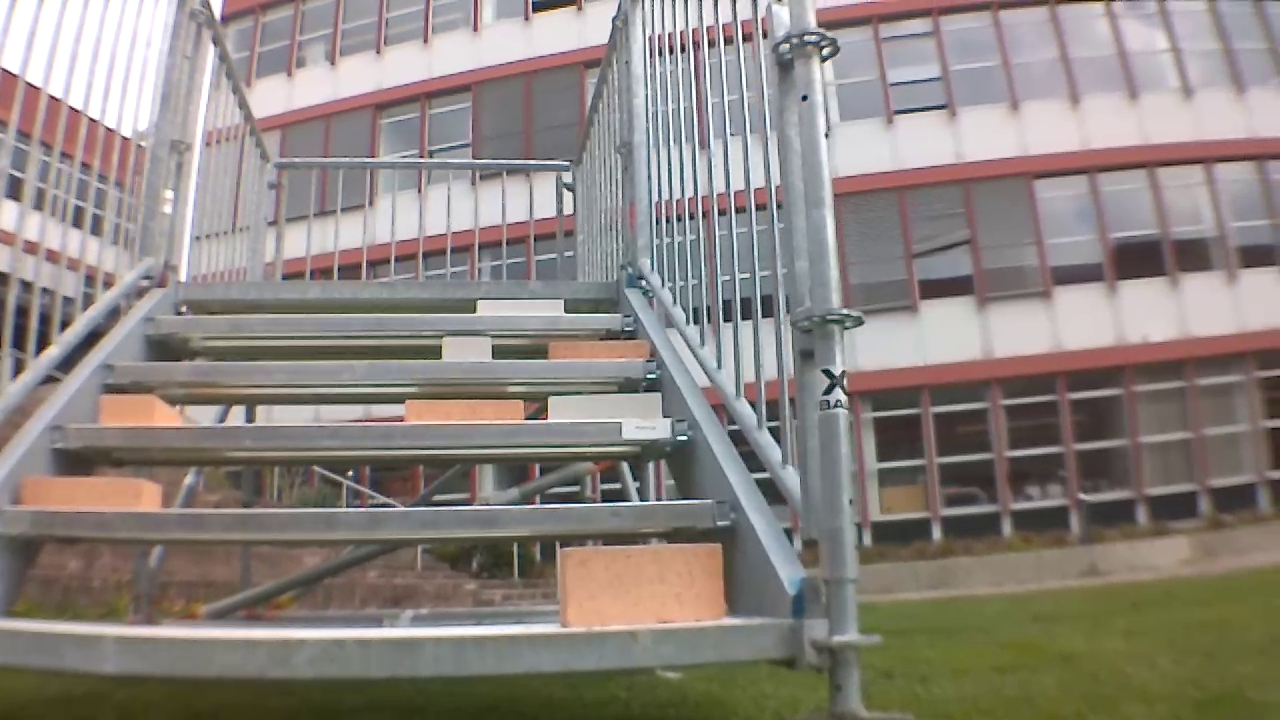brick: (557, 535, 727, 628), (19, 474, 160, 509), (398, 394, 532, 428), (551, 390, 665, 422), (102, 392, 186, 427), (544, 339, 654, 361), (431, 335, 498, 365), (472, 297, 568, 315)
edge: (0, 607, 815, 679), (0, 503, 747, 549), (36, 413, 706, 457), (102, 362, 685, 389), (144, 313, 646, 336), (173, 278, 625, 302)
stairs: (0, 0, 857, 707)
steps: (0, 277, 795, 674)
